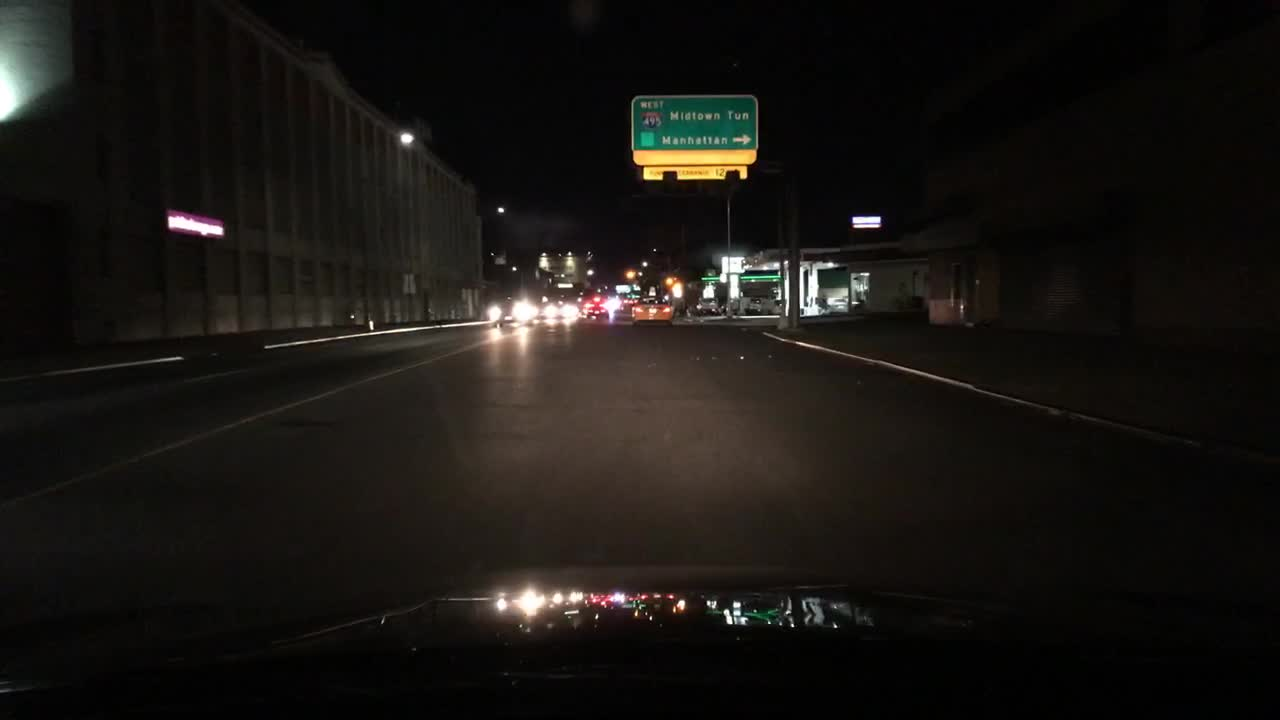car: (629, 292, 672, 326), (487, 294, 530, 323), (542, 299, 580, 320), (580, 291, 607, 318), (697, 296, 722, 315), (746, 296, 764, 316), (726, 294, 742, 316), (606, 292, 620, 316), (619, 294, 638, 307)
traffic sign: (629, 91, 757, 181)
